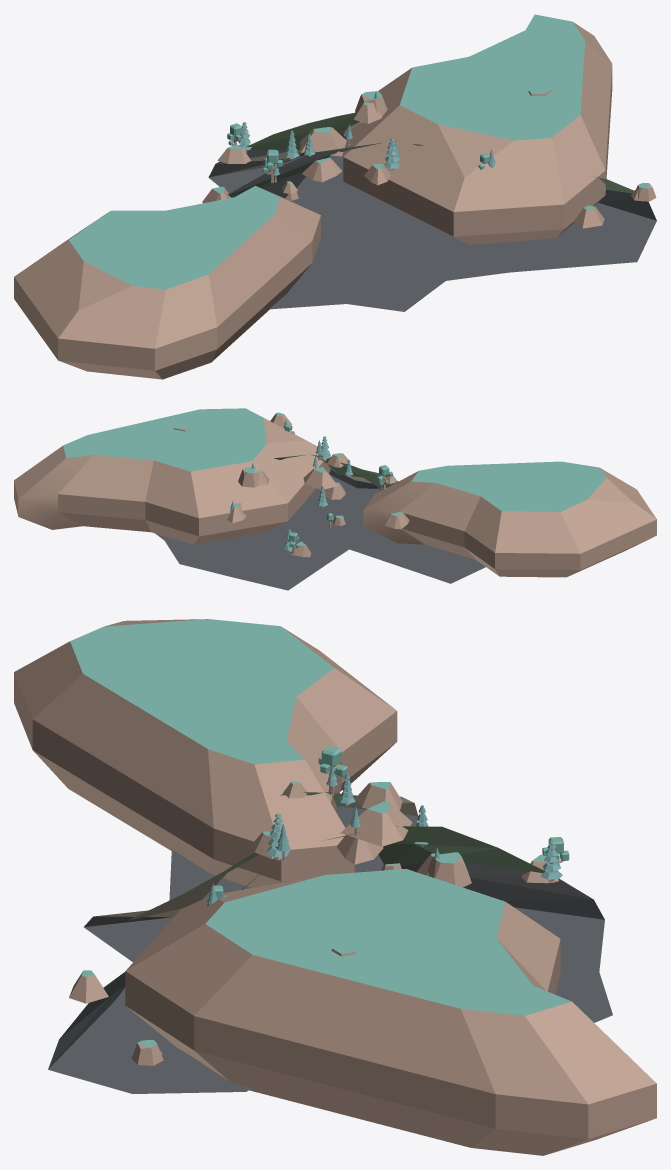
The model's file is cedar_march_lod0.glb.
3 renders of one model, top to bottom at view 1: azimuth 30°, elevation 25°; view 2: azimuth 150°, elevation 25°; view 3: azimuth 270°, elevation 25°, orthographic. The views are drawn at different scales.
Size of the model in its own units: 3.8 by 0.6005 by 2.14.
